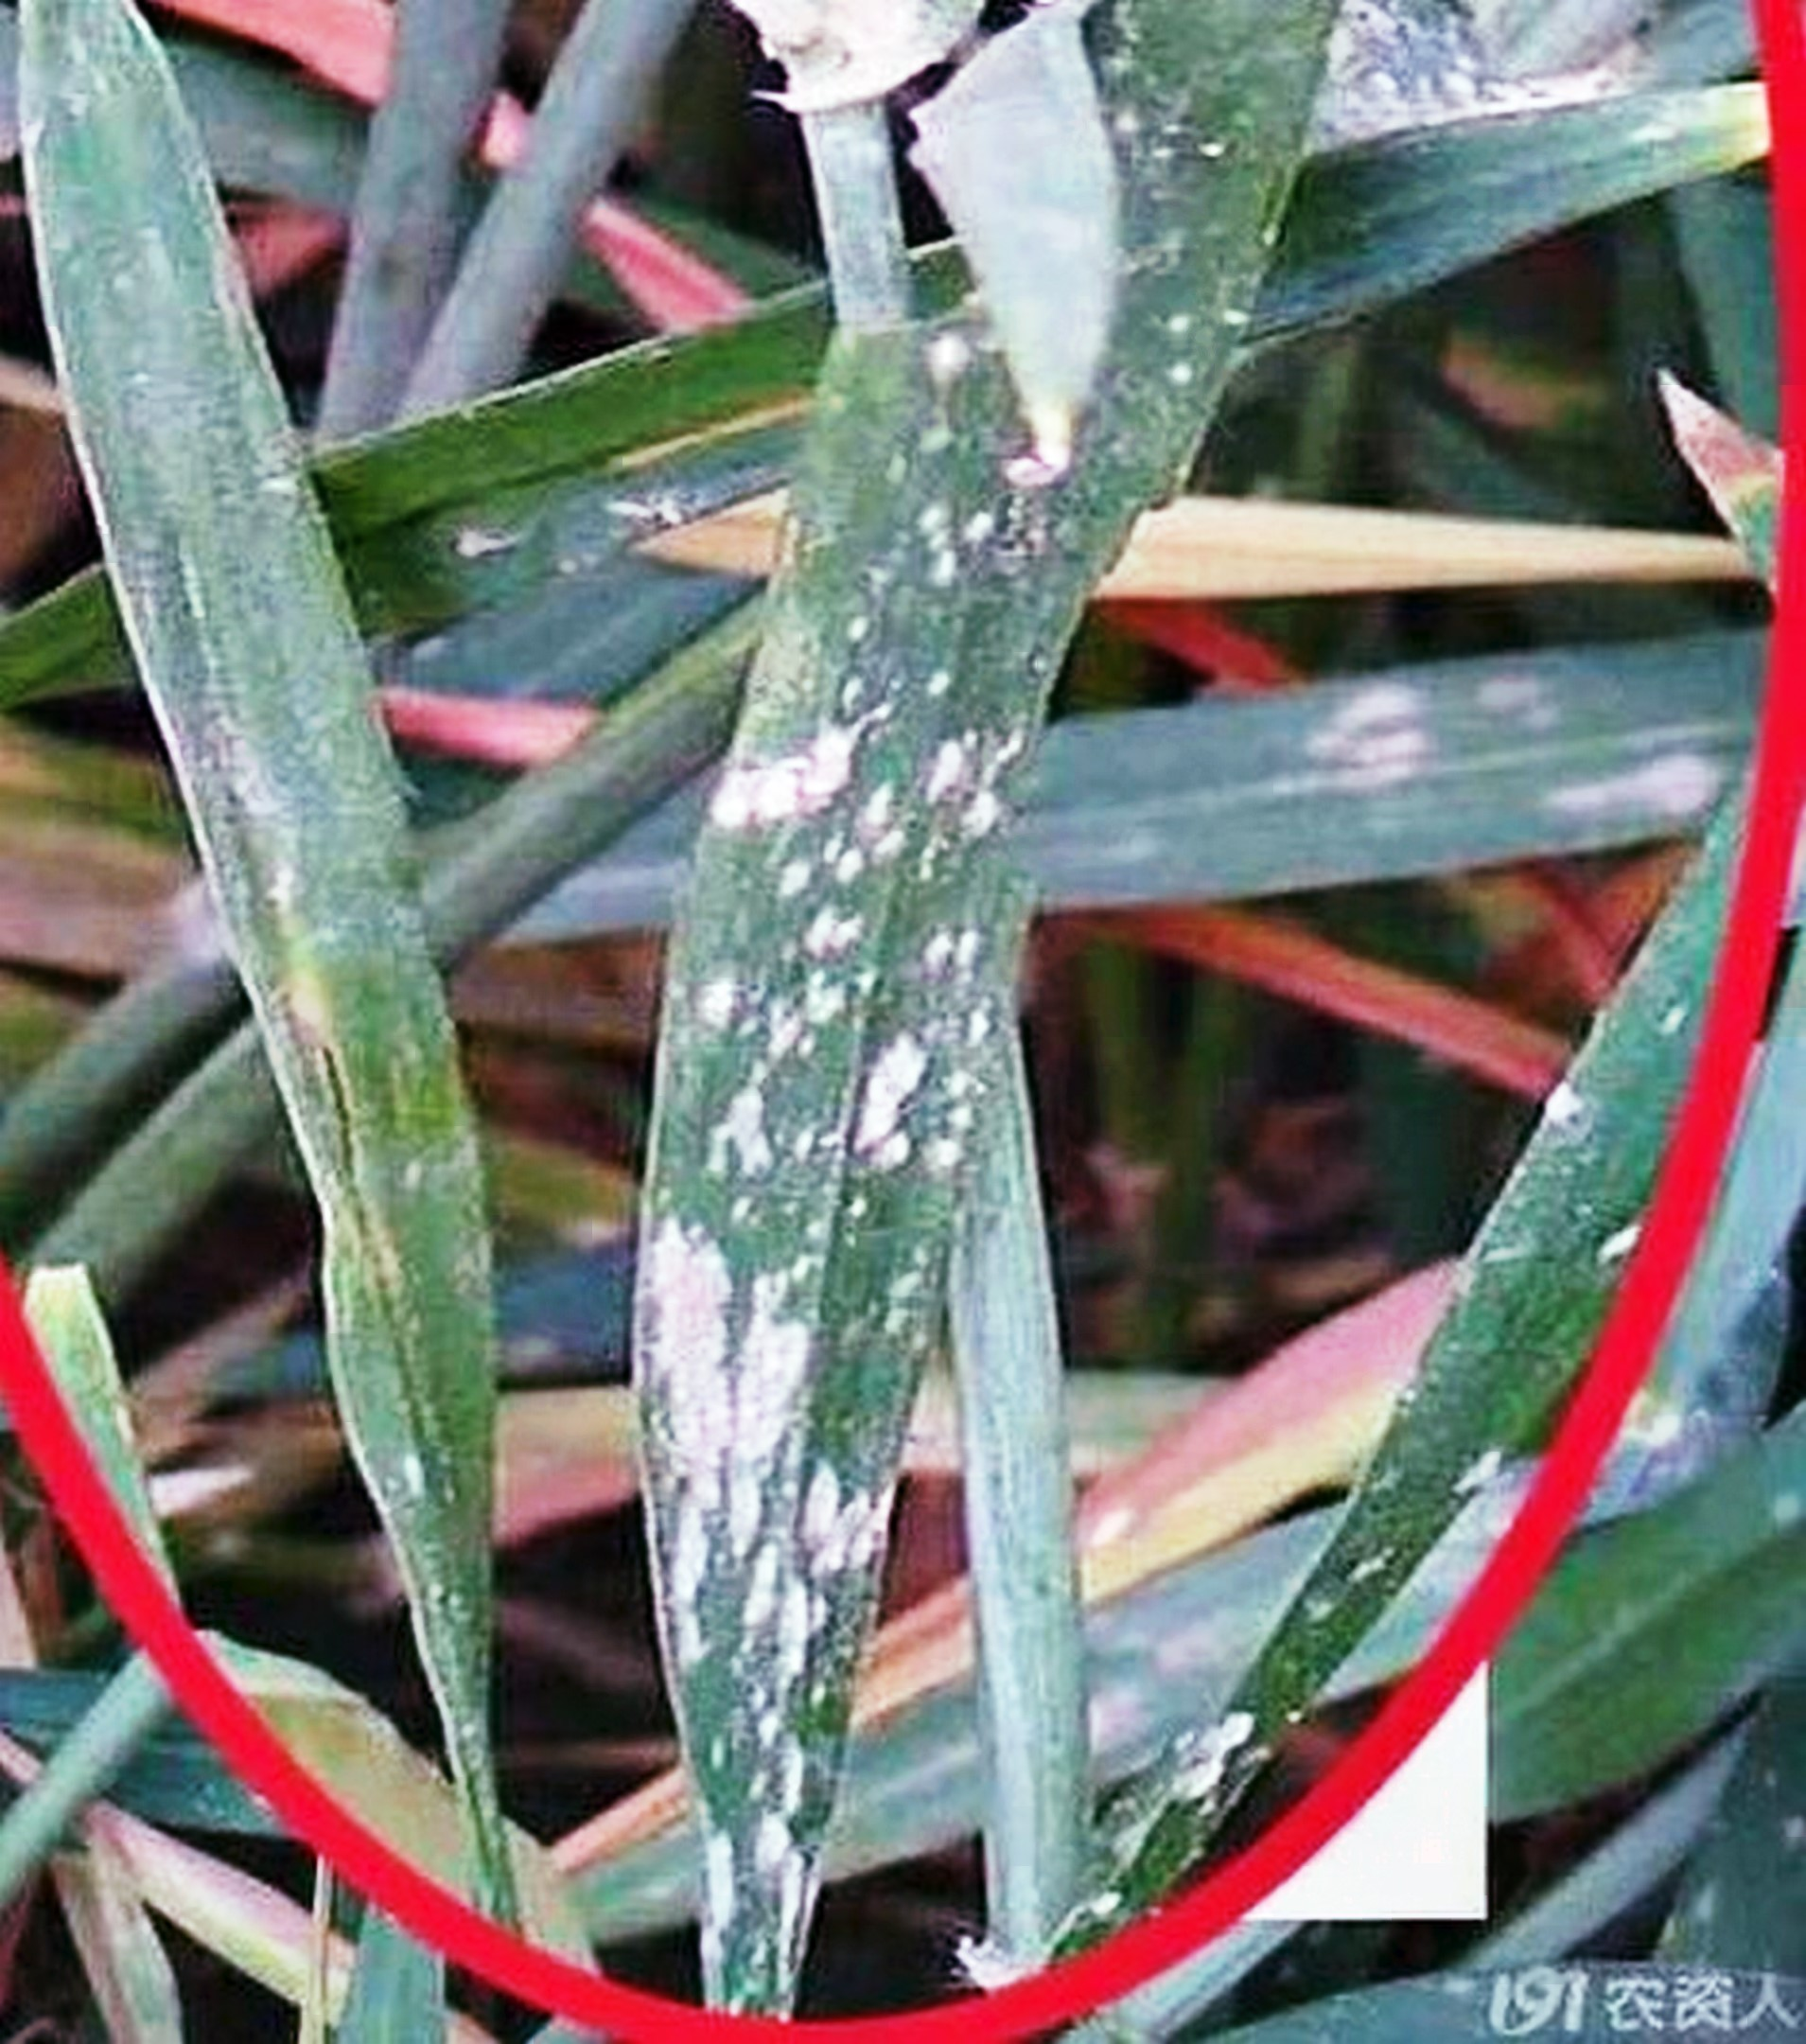Powdery Mildew: (617, 429, 1105, 1829)
